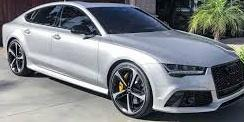Cars: (4, 4, 244, 118)
